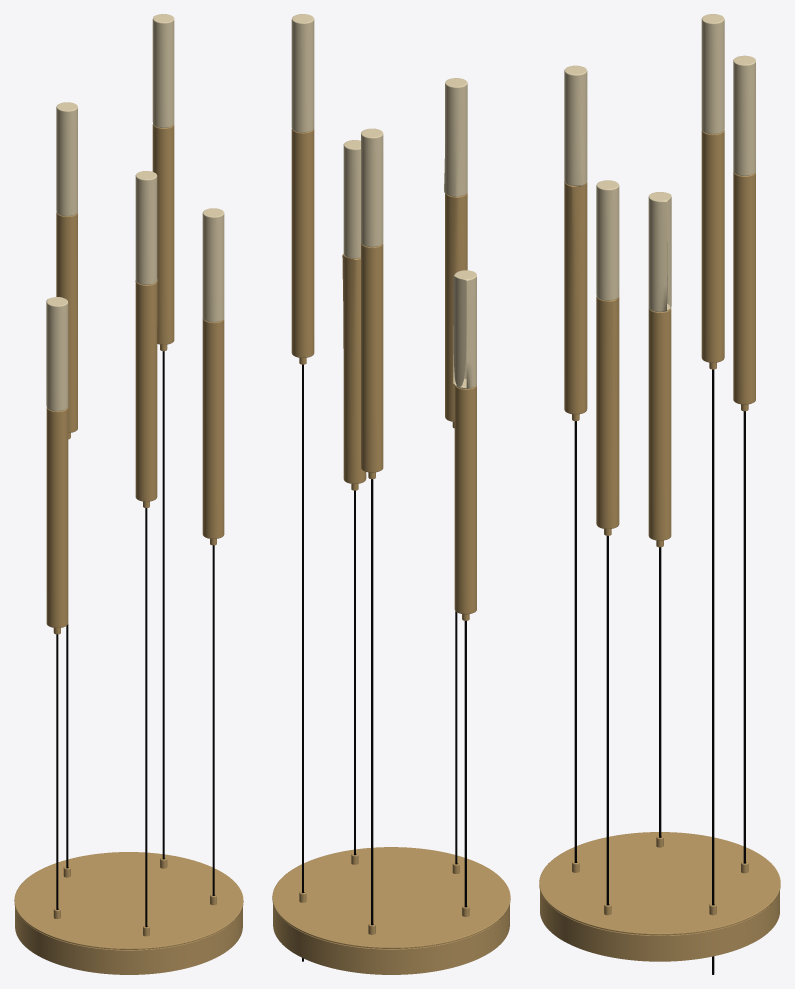
The model's file is foyerlampada.fbx.
3 views of the same model, side by side, from view 1: azimuth 30°, elevation 25°; view 2: azimuth 150°, elevation 25°; view 3: azimuth 270°, elevation 25° (orthographic). The views are drawn at different scales.
Parts seen in each view (by area): view 1: Ceiling lamp, Ceiling lamp.002, Ceiling lamp.001; view 2: Ceiling lamp, Ceiling lamp.002, Ceiling lamp.001; view 3: Ceiling lamp, Ceiling lamp.002, Ceiling lamp.001.
Part boxes in pixels (box(x1,y1,x2,y2)): Ceiling lamp: box(14, 351, 243, 974); Ceiling lamp.002: box(46, 125, 224, 634); Ceiling lamp.001: box(46, 14, 224, 412); Ceiling lamp: box(272, 364, 510, 974); Ceiling lamp.002: box(291, 130, 476, 620); Ceiling lamp.001: box(291, 14, 476, 390); Ceiling lamp: box(539, 369, 780, 974); Ceiling lamp.002: box(564, 131, 755, 547); Ceiling lamp.001: box(564, 14, 755, 313).
Bounding box in the file's own units: 26.76 × 117 × 26.76.
